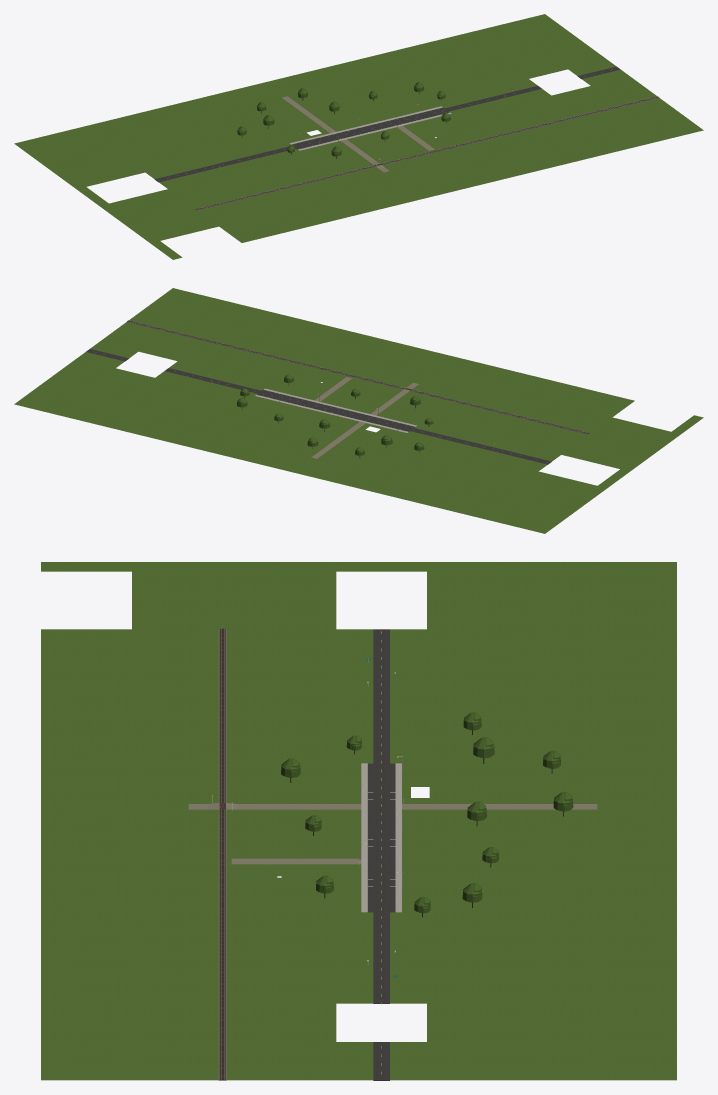
The model's file is P-SITE.glb.
3 renders of one model, top to bottom at view 1: azimuth 30°, elevation 25°; view 2: azimuth 150°, elevation 25°; view 3: azimuth 270°, elevation 25°, orthographic. The views are drawn at different scales.
Parts seen in each view (by area): view 1: ground-col, streets-col, track-col, track_ties, tree_crowns; view 2: ground-col, streets-col, track-col, track_ties, tree_crowns; view 3: ground-col, streets-col, tree_crowns, track_ties, track-col.
Part boxes in pixels (bbox=[...]): ground-col: bbox=[14, 14, 703, 259]; streets-col: bbox=[155, 66, 620, 182]; track-col: bbox=[195, 96, 659, 210]; track_ties: bbox=[196, 96, 658, 209]; tree_crowns: bbox=[237, 81, 450, 156]; ground-col: bbox=[14, 288, 703, 533]; streets-col: bbox=[86, 349, 551, 464]; track-col: bbox=[127, 320, 590, 434]; track_ties: bbox=[127, 320, 589, 434]; tree_crowns: bbox=[237, 374, 433, 455]; ground-col: bbox=[41, 562, 676, 1080]; streets-col: bbox=[188, 629, 597, 1080]; tree_crowns: bbox=[281, 712, 573, 913]; track_ties: bbox=[219, 628, 225, 1079]; track-col: bbox=[208, 629, 237, 1080].
Size of the model in its own units: 540 by 12.97 by 280.
Materials: 19 (8 with a texture image).
